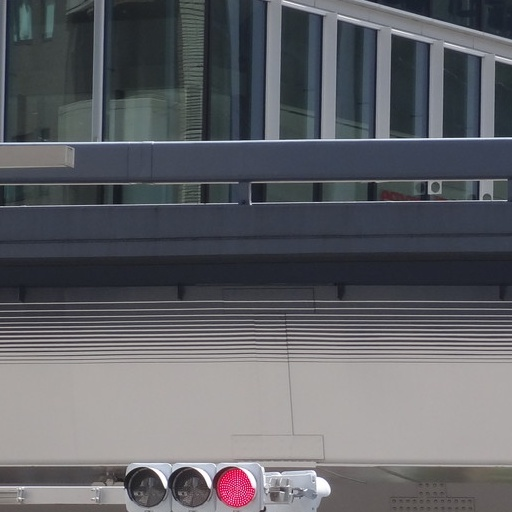Pedestrian_Signal_Red: (114, 448, 270, 512)
